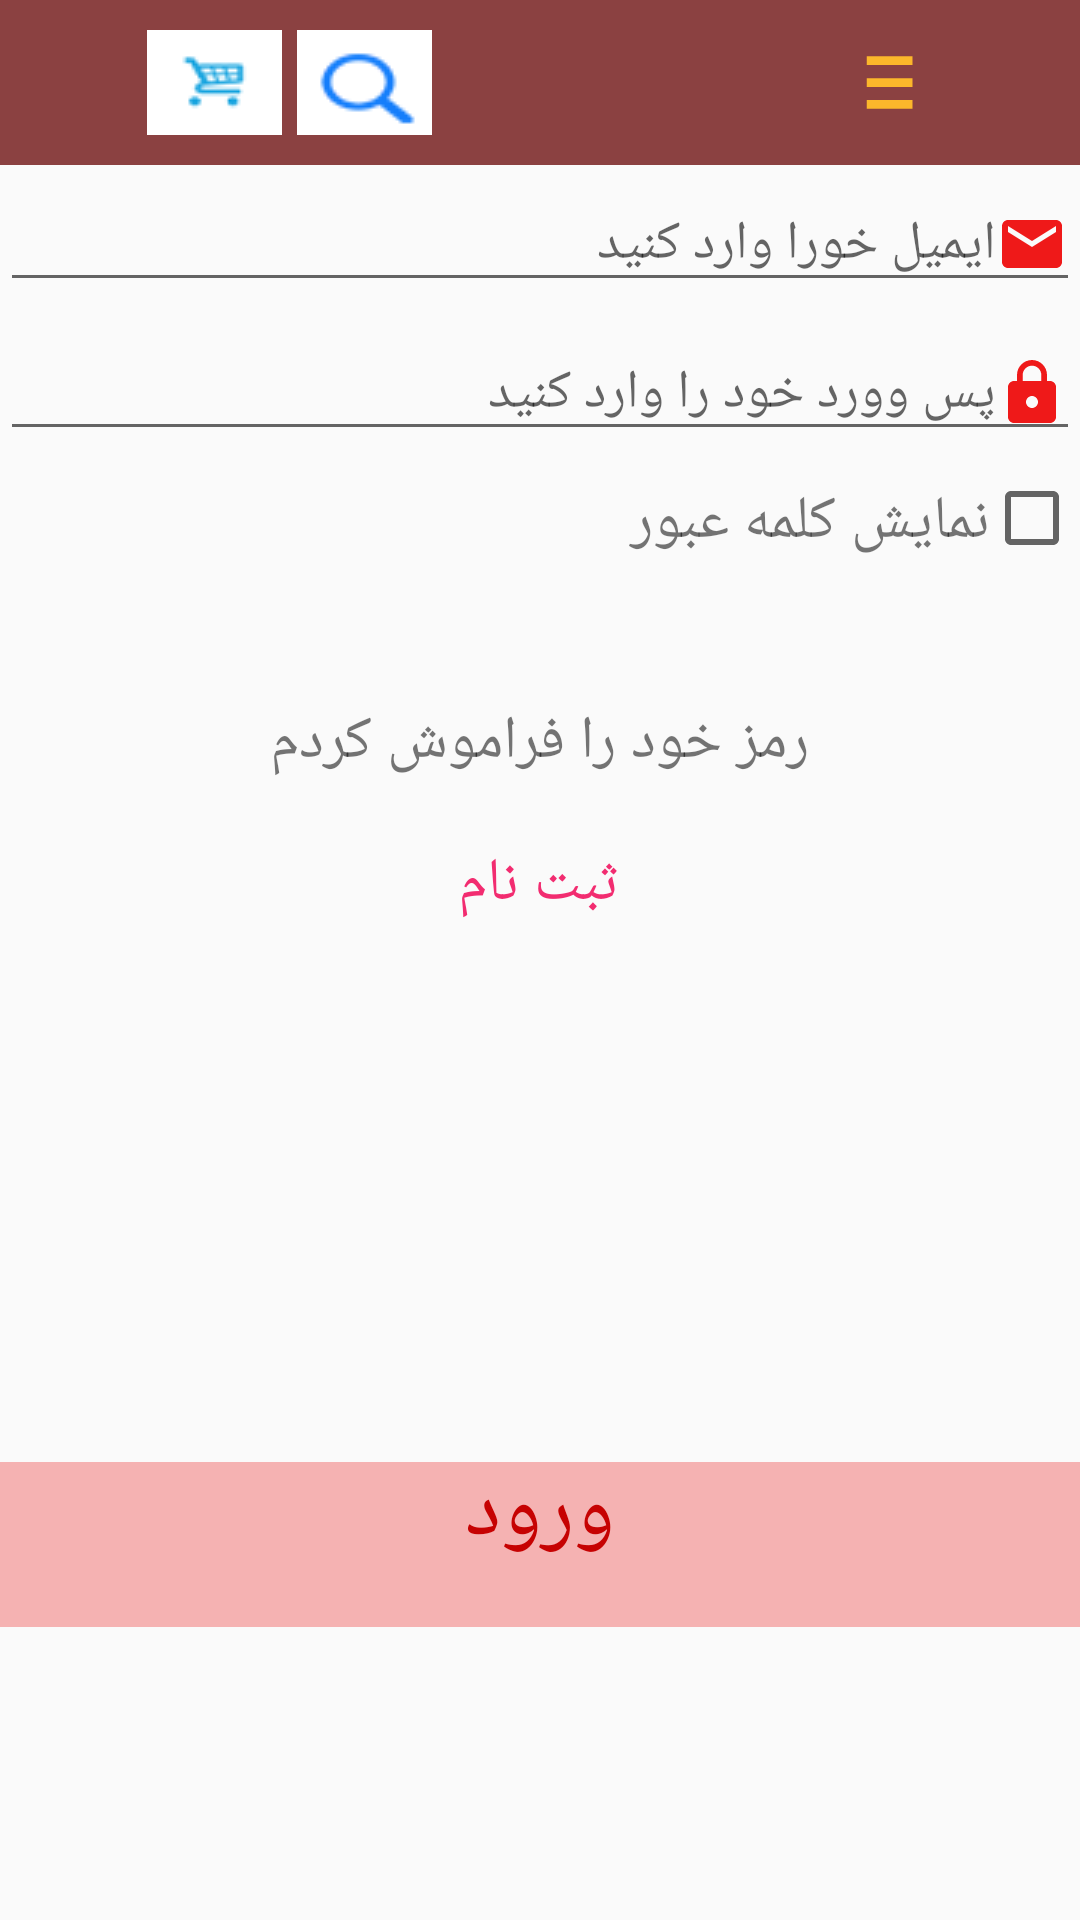

Named icons in this screenshot (1080*1920) and their centers, [x,y]:
menu: [889,82]
ser: [364,82]
